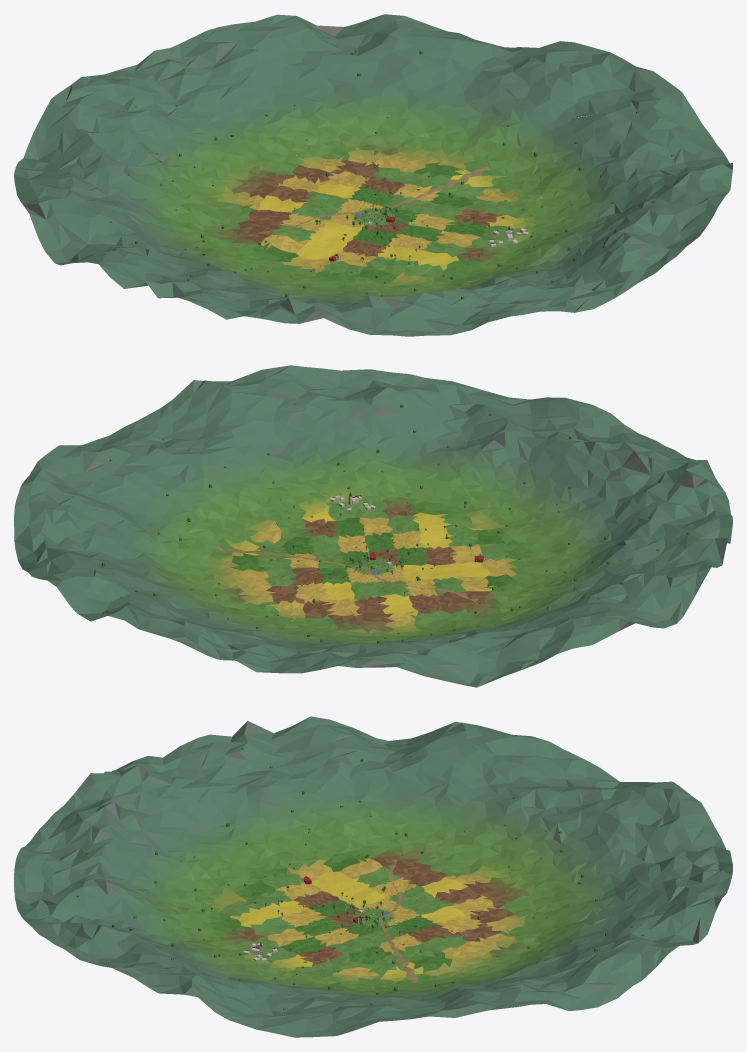
File: world_farm_lite.glb
3 renders of one model, top to bottom at view 1: azimuth 30°, elevation 25°; view 2: azimuth 150°, elevation 25°; view 3: azimuth 270°, elevation 25°, orthographic.
Visible parts, largest first — view 1: Sector5, Sector4, Sector6, Sector3, Sector7, Sector2, Sector0, Sector1; view 2: Sector2, Sector3, Sector1, Sector4, Sector0, Sector7, Sector5, Sector6; view 3: Sector0, Sector7, Sector6, Sector1, Sector5, Sector2, Sector3, Sector4.
Part boxes in pixels (x1,y1,x2,y2): Sector5: [180, 14, 466, 216]; Sector4: [373, 33, 682, 216]; Sector6: [26, 42, 372, 216]; Sector3: [374, 92, 732, 232]; Sector7: [14, 143, 372, 265]; Sector2: [374, 200, 717, 312]; Sector0: [63, 217, 373, 323]; Sector1: [280, 217, 545, 336]; Sector2: [281, 365, 564, 565]; Sector3: [62, 365, 372, 565]; Sector1: [374, 397, 719, 565]; Sector4: [14, 445, 371, 583]; Sector0: [374, 478, 732, 616]; Sector7: [373, 566, 683, 687]; Sector5: [28, 553, 370, 655]; Sector6: [199, 566, 468, 685]; Sector0: [116, 716, 376, 916]; Sector7: [360, 721, 627, 916]; Sector6: [374, 781, 732, 917]; Sector1: [14, 764, 372, 918]; Sector5: [374, 865, 732, 985]; Sector2: [14, 871, 373, 969]; Sector3: [112, 915, 383, 1037]; Sector4: [359, 917, 632, 1023].
Size of the model in its own units: 1200 by 109 by 1199.
